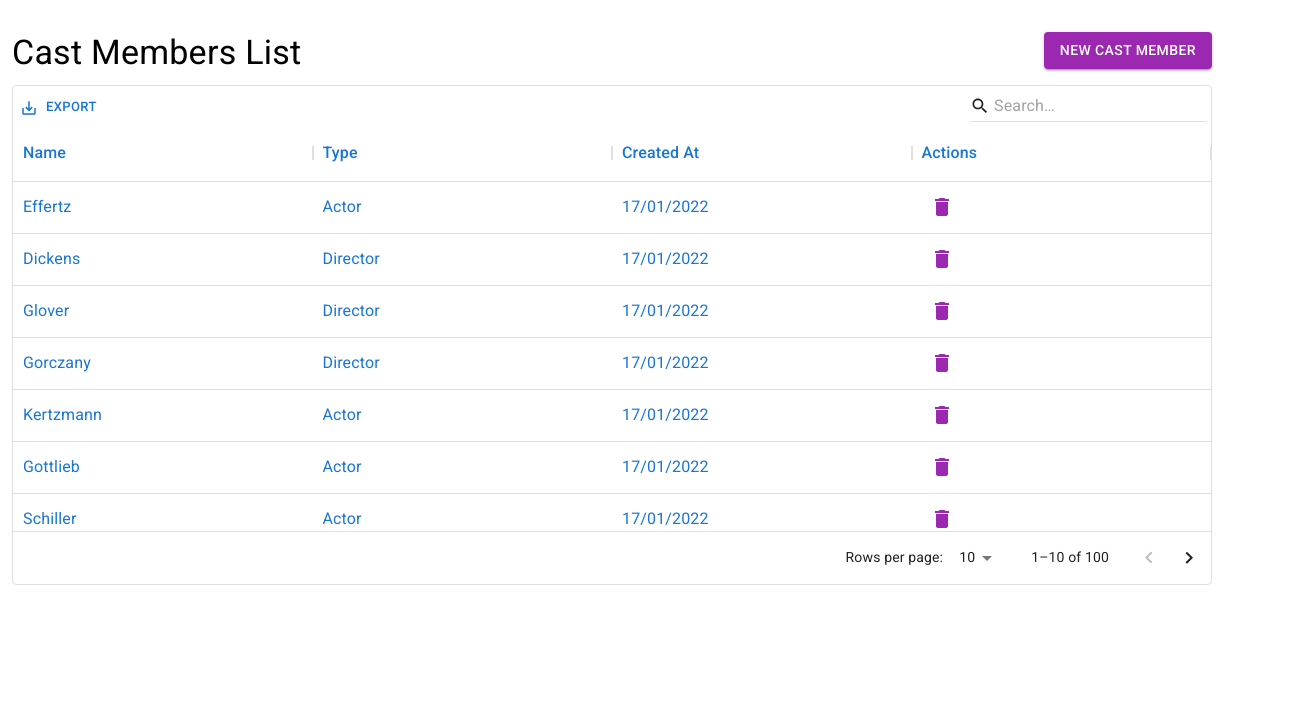
CastMemberList › should handle on page change
Expected: the text "Effertz" is shown, left=23, top=195, right=71, bottom=219
Click the button with test id "KeyboardArrowRightIcon" at (1189, 558), box left=1169, top=538, right=1209, bottom=578
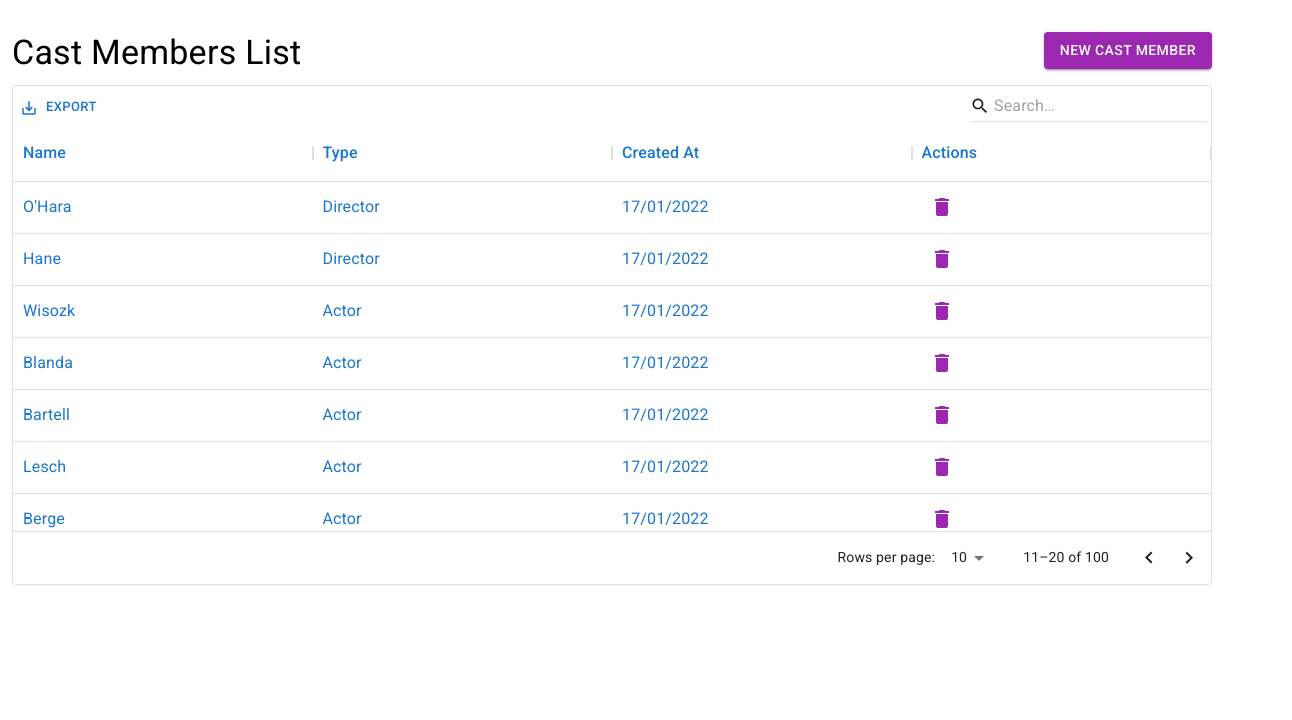
Expected: the text "O'Hara" is shown, left=23, top=195, right=72, bottom=219
